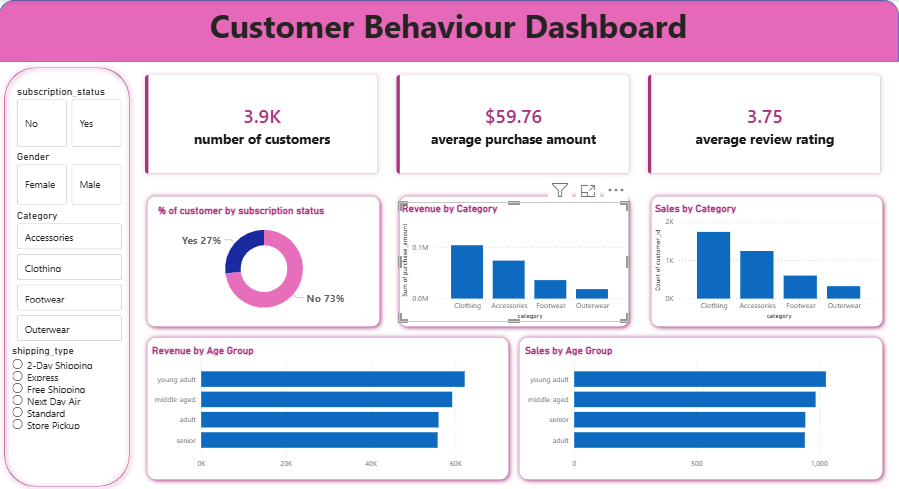

This screenshot's page, from the dashboard's own definition file:
{"tool":"powerbi","page":{"name":"Page 1","canvas":[1500,820],"ordinal":0},"visuals":[{"type":"cardVisual","fields":{"Data":["public customer.number of customers","public customer.average purchase amount","public customer.average review rating"]},"box":[215,96.7,1285,221.7],"z":0},{"type":"shape","box":[0,0,1500,103.3],"z":1000},{"type":"textbox","box":[115,0,1268.3,103.3],"z":2000},{"type":"shape","box":[238.3,318.3,405,235],"z":3000},{"type":"donutChart","title":"% of customer by subscription status","fields":{"Y":["Count(public customer.customer_id)"],"Category":["public customer.subscription_status"]},"box":[260,340,363.3,196.7],"z":4000},{"type":"shape","box":[1078.3,318.3,403.3,235],"z":5000},{"type":"shape","box":[658.3,318.3,400,235],"z":6000},{"type":"clusteredColumnChart","title":"Revenue by Category","fields":{"Y":["Sum(public customer.purchase_amount)"],"Category":["public customer.category"]},"box":[666.7,336.7,383.3,200],"z":7000},{"type":"clusteredColumnChart","title":"Sales by Category","fields":{"Y":["Count(public customer.customer_id)"],"Category":["public customer.category"]},"box":[1088.3,336.7,383.3,200],"z":8000},{"type":"shape","box":[0,103.3,226.7,716.7],"z":9000},{"type":"advancedSlicerVisual","fields":{"Values":["public customer.subscription_status"]},"box":[25,141.7,185,108.3],"z":10000},{"type":"advancedSlicerVisual","fields":{"Values":["public customer.gender"]},"box":[25,250,185,96.7],"z":11000},{"type":"advancedSlicerVisual","fields":{"Values":["public customer.category"]},"box":[25,348.3,185,225],"z":12000},{"type":"listSlicer","fields":{"Values":["public customer.shipping_type"]},"box":[16.7,573.3,193.3,193.3],"z":13000},{"type":"shape","box":[238.3,553.3,620,255],"z":15000},{"type":"shape","box":[858.3,553.3,623.3,255],"z":16000},{"type":"clusteredBarChart","title":"Sales by Age Group","fields":{"Y":["Count(public customer.customer_id)"],"Category":["public customer.age_group"]},"box":[871.7,573.3,596.7,216.7],"z":17000},{"type":"clusteredBarChart","title":"Revenue by Age Group","fields":{"Y":["Sum(public customer.purchase_amount)"],"Category":["public customer.age_group"]},"box":[250,573.3,596.7,216.7],"z":17001}]}

Visuals, with their boxes in screenshot pixels (x1, y1, x2, y2), scaled from the page's 1500x820 canvas onto the 899x489 screenshot:
cardVisual - public customer.number of customers x public customer.average purchase amount: detection(129, 58, 898, 190)
shape: detection(0, 0, 898, 62)
textbox: detection(69, 0, 829, 62)
shape: detection(143, 190, 386, 330)
"% of customer by subscription status" donutChart: detection(156, 203, 374, 320)
shape: detection(646, 190, 888, 330)
shape: detection(395, 190, 634, 330)
"Revenue by Category" clusteredColumnChart: detection(400, 201, 629, 320)
"Sales by Category" clusteredColumnChart: detection(652, 201, 882, 320)
shape: detection(0, 62, 136, 488)
advancedSlicerVisual - public customer.subscription_status: detection(15, 85, 126, 149)
advancedSlicerVisual - public customer.gender: detection(15, 149, 126, 207)
advancedSlicerVisual - public customer.category: detection(15, 208, 126, 342)
listSlicer - public customer.shipping_type: detection(10, 342, 126, 457)
shape: detection(143, 330, 514, 482)
shape: detection(514, 330, 888, 482)
"Sales by Age Group" clusteredBarChart: detection(522, 342, 880, 471)
"Revenue by Age Group" clusteredBarChart: detection(150, 342, 507, 471)
